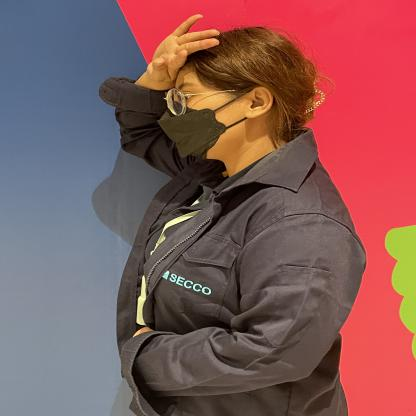Sick: (86, 3, 300, 137)
